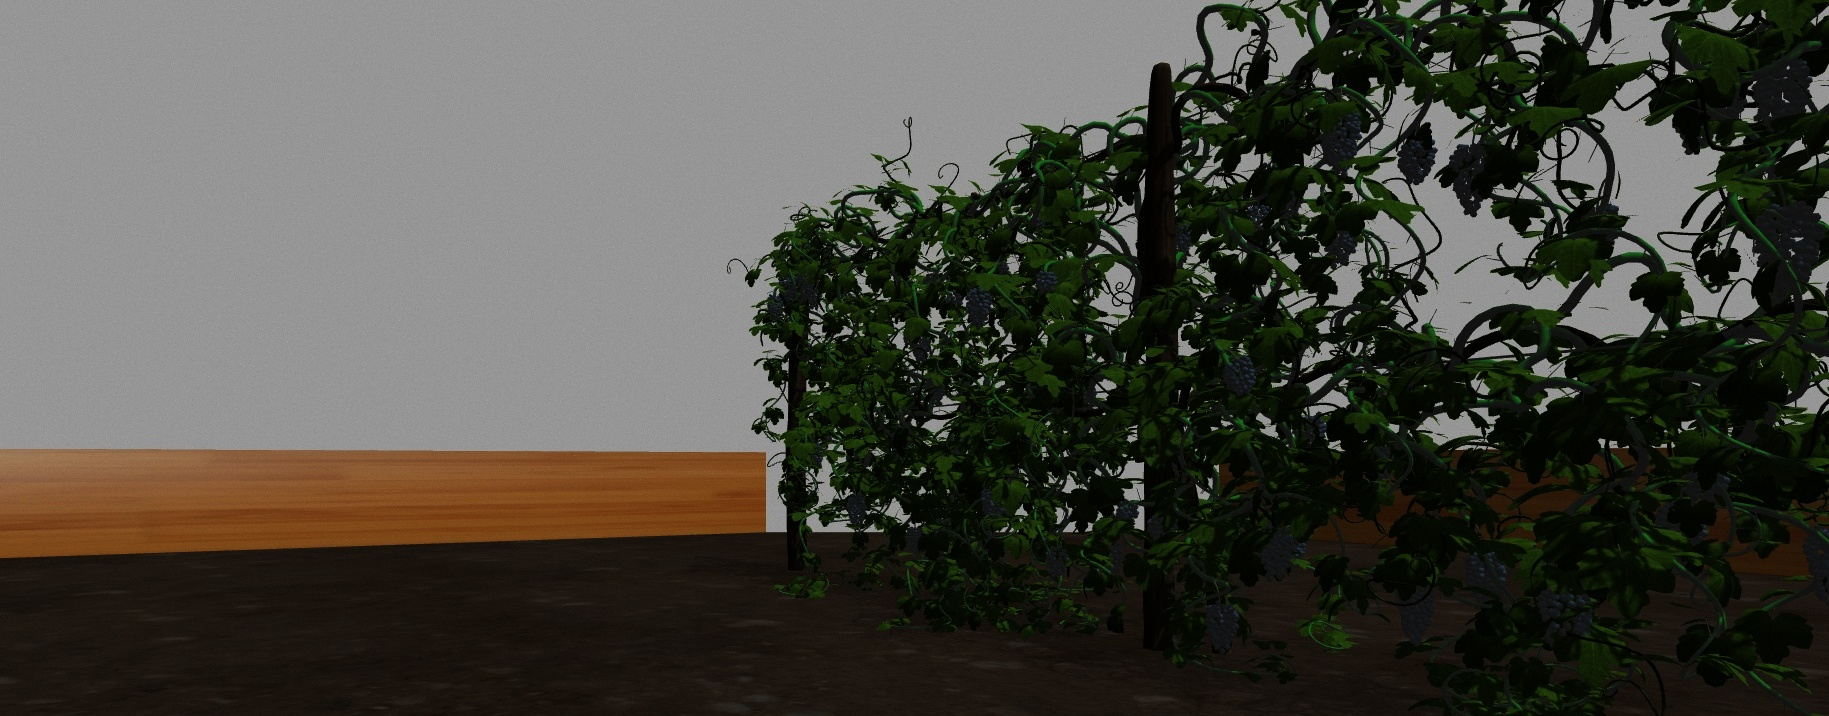grape: (1756, 201, 1823, 285), (1751, 56, 1813, 122), (1449, 141, 1490, 217), (1537, 591, 1596, 641), (1320, 107, 1362, 174), (1394, 584, 1435, 648), (1463, 548, 1508, 604), (1260, 524, 1298, 580), (1801, 526, 1827, 603), (1396, 138, 1438, 184), (1203, 601, 1239, 651), (1323, 222, 1361, 266), (1684, 470, 1730, 505), (1222, 355, 1256, 396), (965, 289, 989, 330), (1147, 512, 1178, 540), (1044, 545, 1068, 580), (980, 487, 1004, 519), (847, 494, 867, 528), (905, 526, 925, 559), (796, 271, 815, 302), (1035, 271, 1058, 293), (1115, 499, 1138, 521), (1176, 225, 1192, 254), (778, 275, 796, 301), (768, 295, 784, 320), (945, 292, 963, 309)
